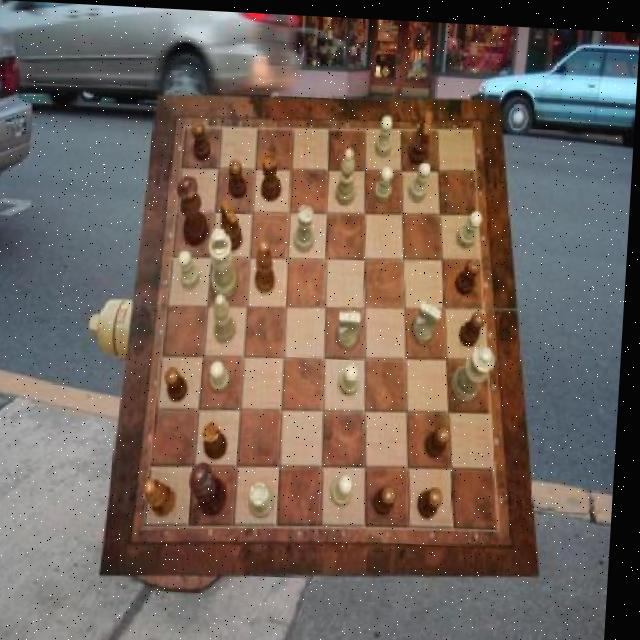bishop: (147, 476, 181, 515), (256, 239, 278, 292)
black-bishop: (194, 459, 234, 515)
black-king: (410, 106, 435, 162), (221, 197, 247, 249)
black-knight: (429, 420, 457, 455), (457, 253, 483, 290), (464, 306, 490, 341), (168, 364, 192, 400), (422, 483, 448, 516), (229, 156, 250, 194), (194, 119, 213, 160), (377, 483, 401, 513)
black-pawn: (175, 172, 212, 244)
black-queen: (261, 151, 284, 200), (205, 418, 232, 457)
black-rook: (216, 291, 241, 341), (337, 143, 358, 202)
white-bishop: (208, 226, 242, 296)
white-king: (414, 296, 444, 339), (339, 307, 363, 346)
white-knight: (458, 205, 484, 244), (409, 157, 432, 198), (180, 248, 204, 287), (376, 111, 394, 153), (336, 472, 359, 503), (213, 358, 235, 390), (375, 162, 394, 198), (344, 359, 364, 391)
white-pawn: (455, 338, 501, 397)
white-queen: (295, 202, 317, 250), (254, 479, 280, 515)
